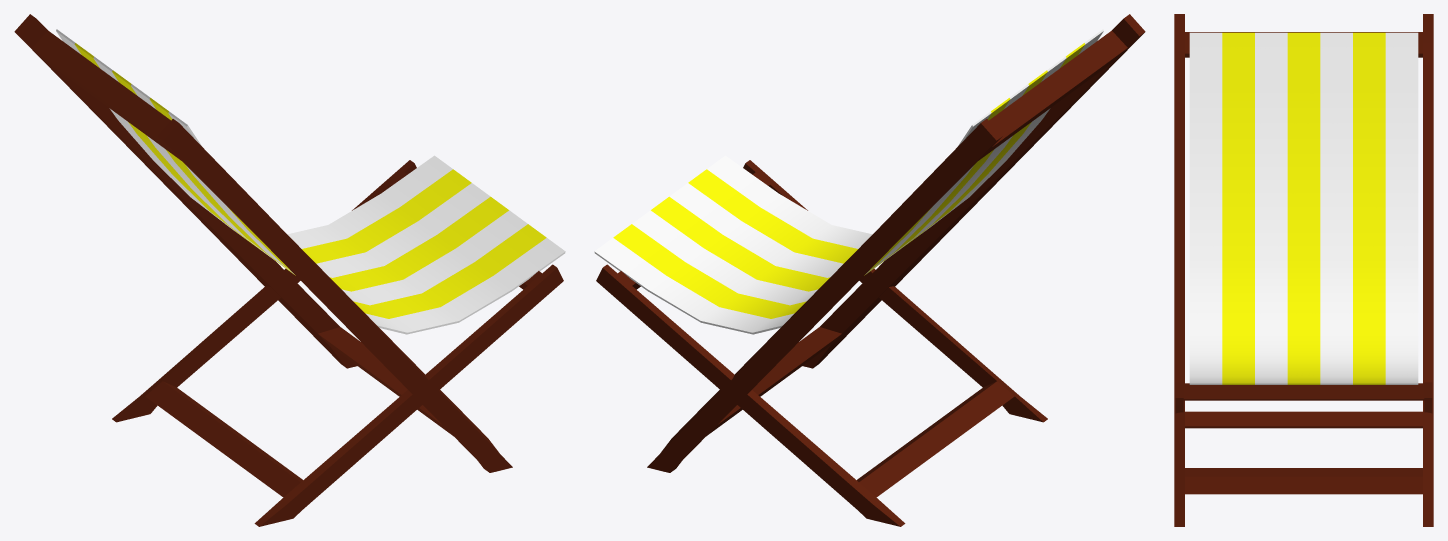
The model's file is transat tissu.fbx.
The picture shows the model from 3 angles, left to right: view 1: azimuth 30°, elevation 25°; view 2: azimuth 150°, elevation 25°; view 3: azimuth 270°, elevation 25°; orthographic projection. The views are drawn at different scales.
Parts seen in each view (by area): view 1: Box006; view 2: Box006; view 3: Box006.
Boxes of the visible parts, x1,y1,x2,y2 form: Box006: [14, 14, 565, 526]; Box006: [594, 14, 1145, 526]; Box006: [1174, 14, 1433, 526].
Bounding box in the file's own units: 120 × 119 × 75.53.
